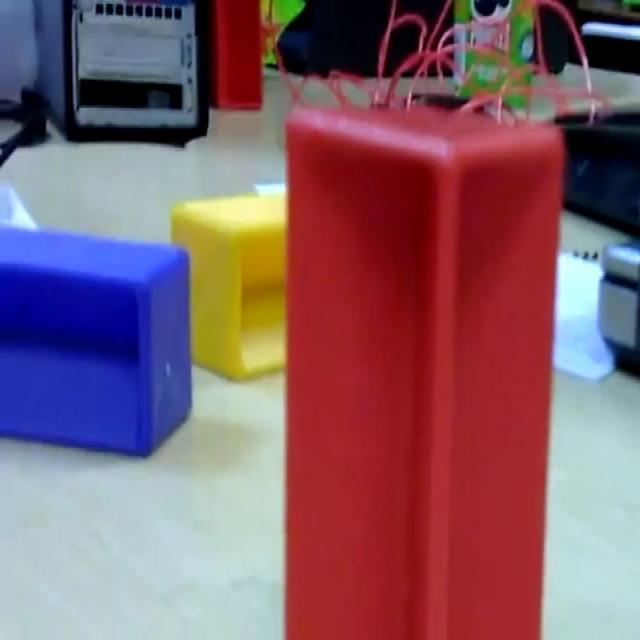blue_block: (0, 220, 193, 457)
red_block: (282, 101, 565, 636)
yellow_block: (170, 185, 288, 380)
